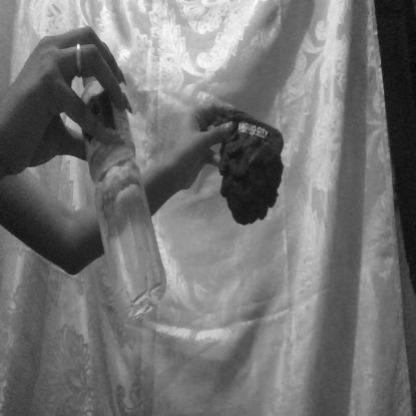Plastic Bottle: (57, 42, 186, 357)
